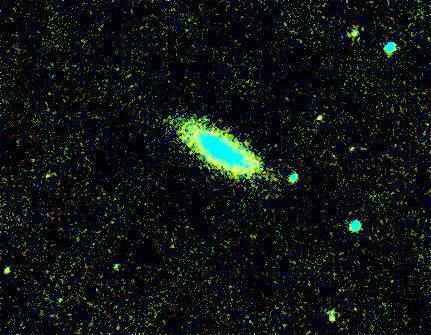star: (302, 106, 332, 136)
